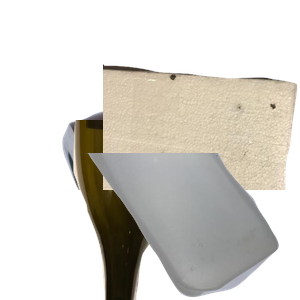glass: (71, 120, 254, 300)
metal: (60, 79, 300, 259)
plastic: (84, 153, 300, 300)
trash: (103, 62, 300, 242)
